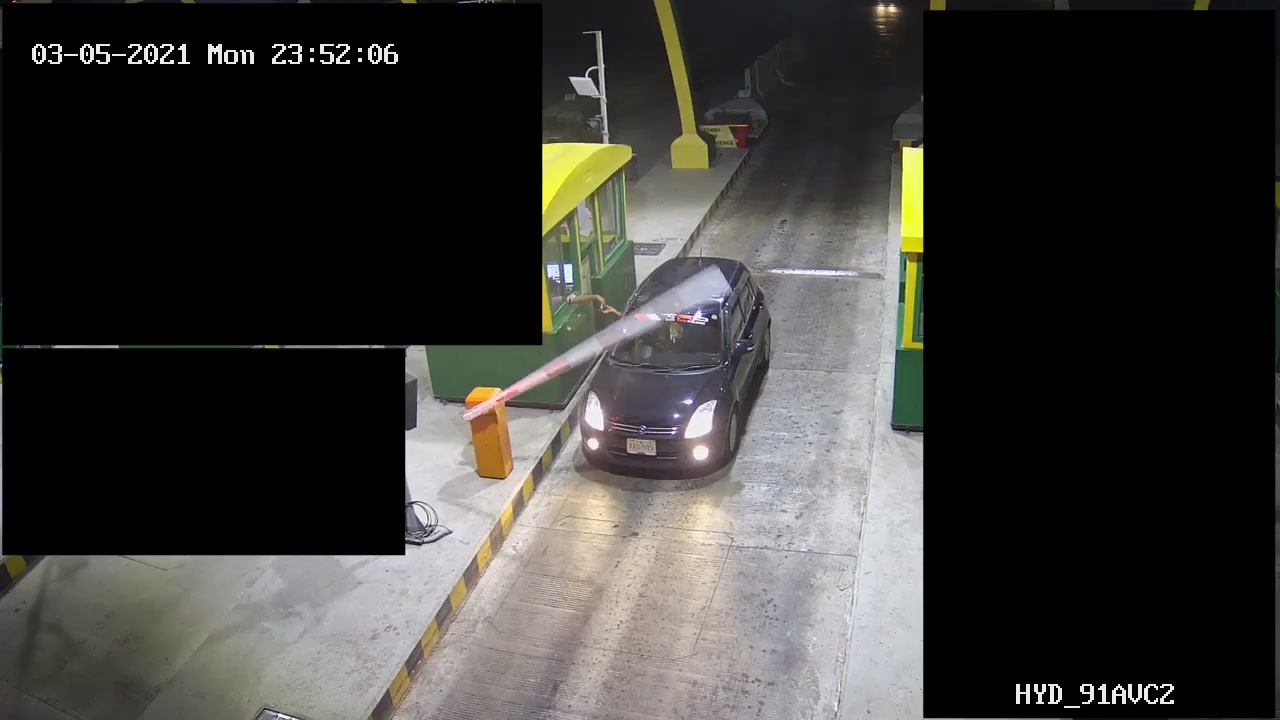F1: (577, 252, 776, 486)
